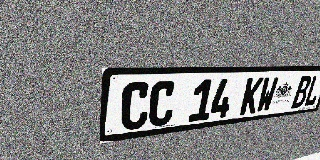1: (188, 79, 216, 122)
4: (209, 78, 235, 119)
B: (291, 76, 313, 108)
C: (120, 82, 151, 131), (147, 81, 177, 128)
K: (239, 77, 264, 115)
L: (303, 75, 320, 107)
W: (255, 77, 279, 113)
